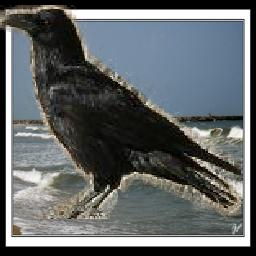Crow: (0, 5, 241, 219)
